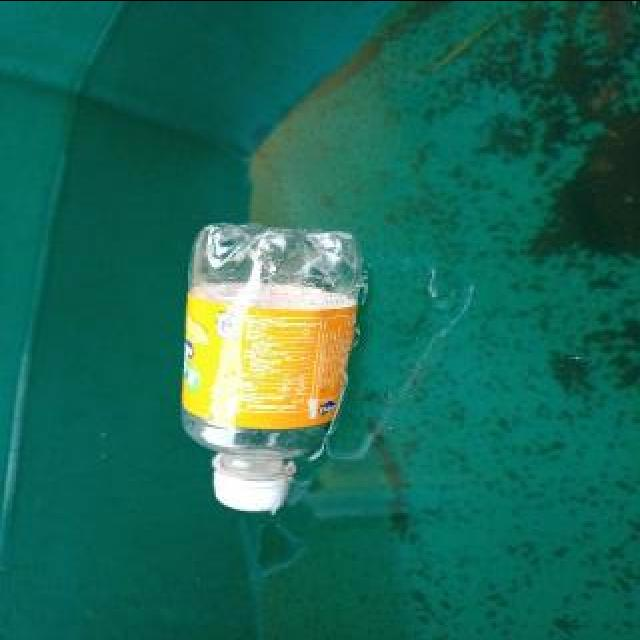Bottle: (180, 223, 368, 515)
